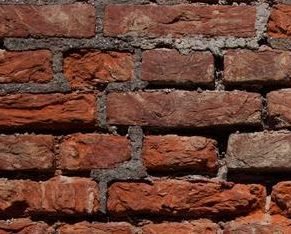brick: (107, 179, 267, 219), (104, 91, 265, 127), (100, 4, 257, 37), (1, 89, 99, 126), (1, 176, 100, 212), (1, 4, 97, 38), (141, 134, 220, 175), (58, 135, 131, 171), (140, 49, 215, 84), (222, 48, 291, 84), (63, 50, 136, 84), (225, 133, 291, 170), (1, 132, 56, 171), (1, 46, 55, 82)
